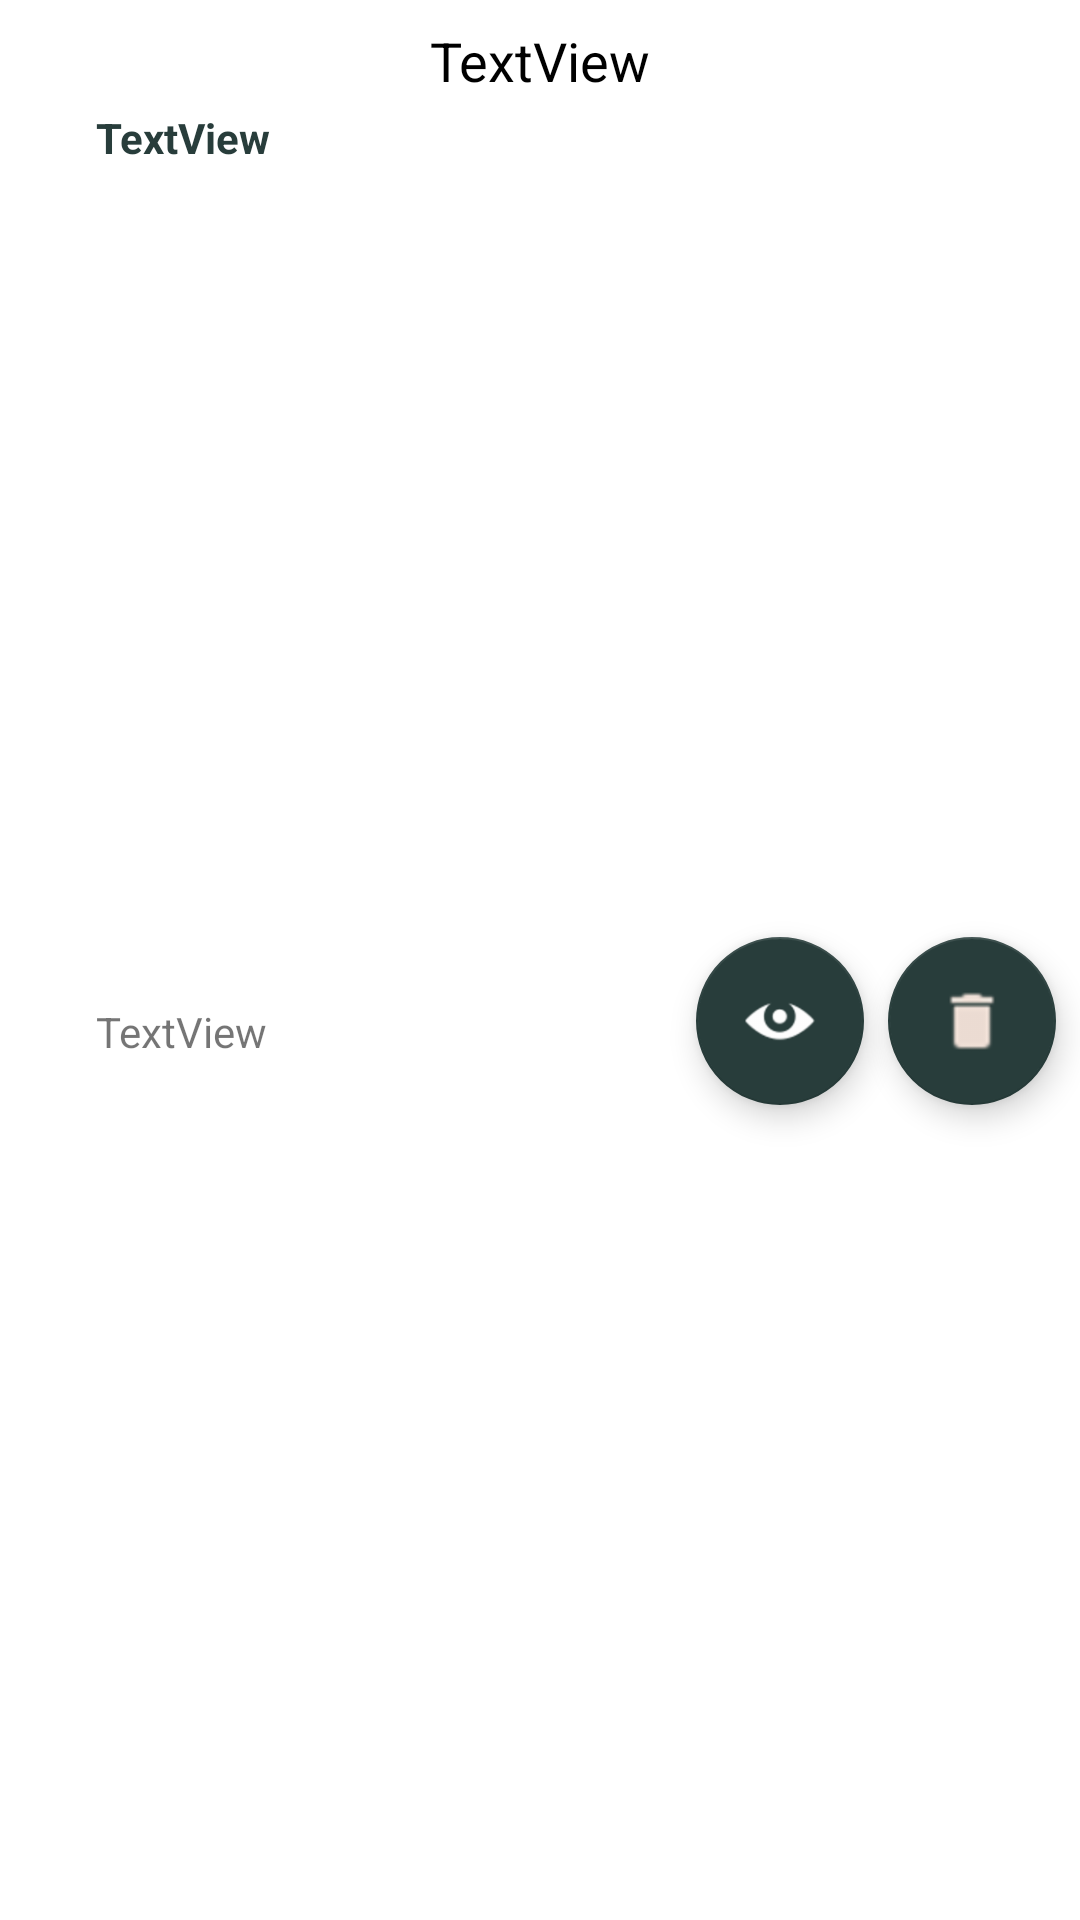

Screen size 1080*1920. Icon name, then its box in pixels as (x1, y1, x2, y2):
delete: (888, 937, 1056, 1105)
eye: (696, 937, 864, 1105)
